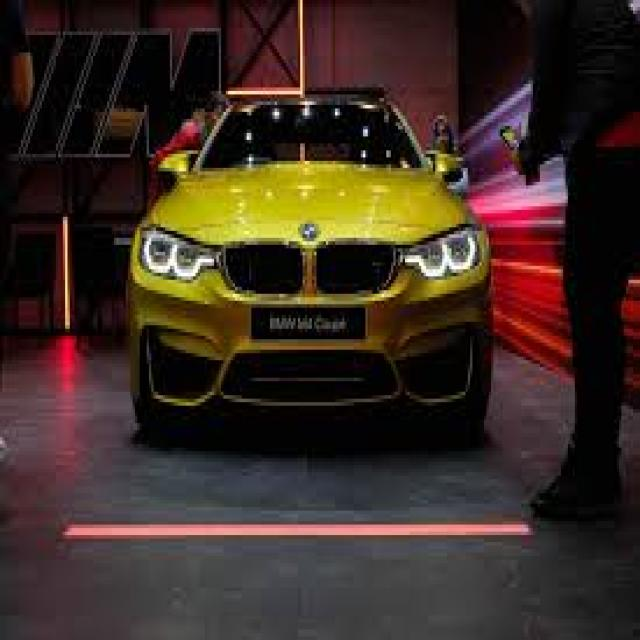SUV: (122, 88, 495, 448)
